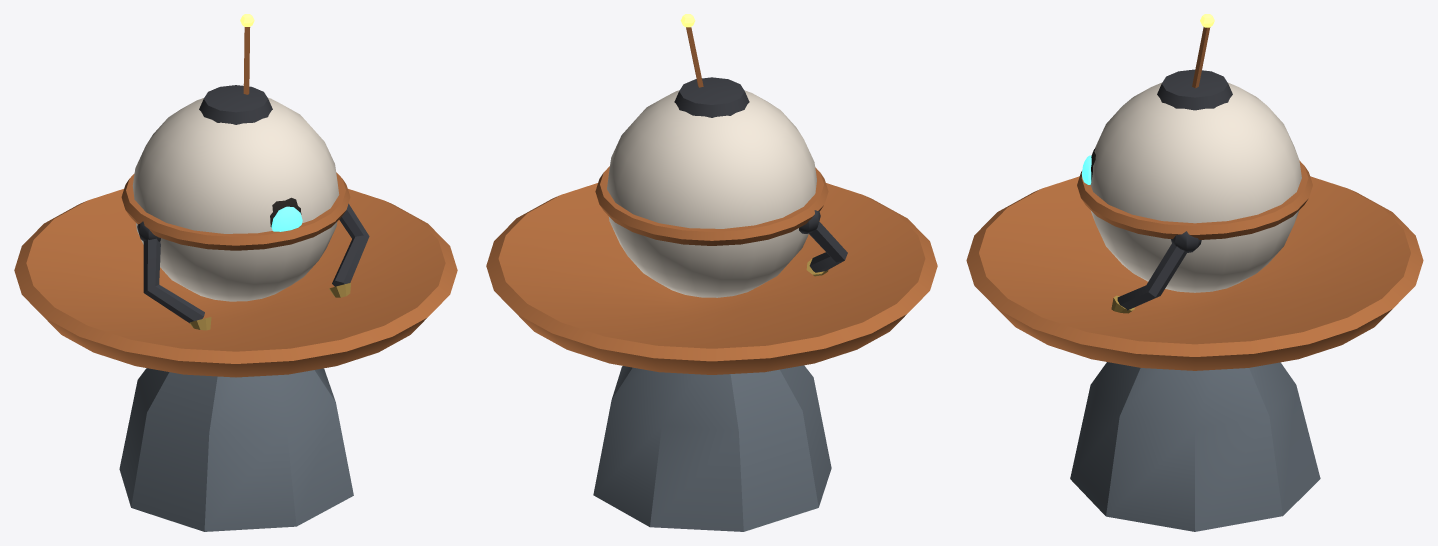
The model's file is deco_repair_drone_docked.fbx.
3 views of the same model, side by side, from view 1: azimuth 30°, elevation 25°; view 2: azimuth 150°, elevation 25°; view 3: azimuth 270°, elevation 25° (orthographic). The views are drawn at different scales.
Visible parts, largest first — view 1: RepairDrone_Docked_Dish, RepairDrone_Docked_Body, RepairDrone_Docked_Pedestal, RepairDrone_Docked_ArmL, RepairDrone_Docked_ArmR, RepairDrone_Docked_Eye; view 2: RepairDrone_Docked_Dish, RepairDrone_Docked_Body, RepairDrone_Docked_Pedestal, RepairDrone_Docked_ArmL; view 3: RepairDrone_Docked_Dish, RepairDrone_Docked_Body, RepairDrone_Docked_Pedestal, RepairDrone_Docked_ArmR.
Boxes of the visible parts, left/top/right/bottom form: RepairDrone_Docked_Dish: left=14, top=189, right=457, bottom=377; RepairDrone_Docked_Body: left=121, top=14, right=350, bottom=301; RepairDrone_Docked_Pedestal: left=119, top=368, right=353, bottom=531; RepairDrone_Docked_ArmL: left=137, top=221, right=211, bottom=330; RepairDrone_Docked_ArmR: left=329, top=203, right=369, bottom=297; RepairDrone_Docked_Eye: left=270, top=197, right=302, bottom=231; RepairDrone_Docked_Dish: left=486, top=183, right=937, bottom=374; RepairDrone_Docked_Body: left=595, top=14, right=828, bottom=297; RepairDrone_Docked_Pedestal: left=593, top=365, right=831, bottom=531; RepairDrone_Docked_ArmL: left=799, top=210, right=847, bottom=276; RepairDrone_Docked_Dish: left=966, top=176, right=1423, bottom=370; RepairDrone_Docked_Body: left=1077, top=14, right=1312, bottom=292; RepairDrone_Docked_Pedestal: left=1070, top=362, right=1320, bottom=531; RepairDrone_Docked_ArmR: left=1111, top=231, right=1201, bottom=313.
Size of the model in its own units: 110 by 126 by 110.
